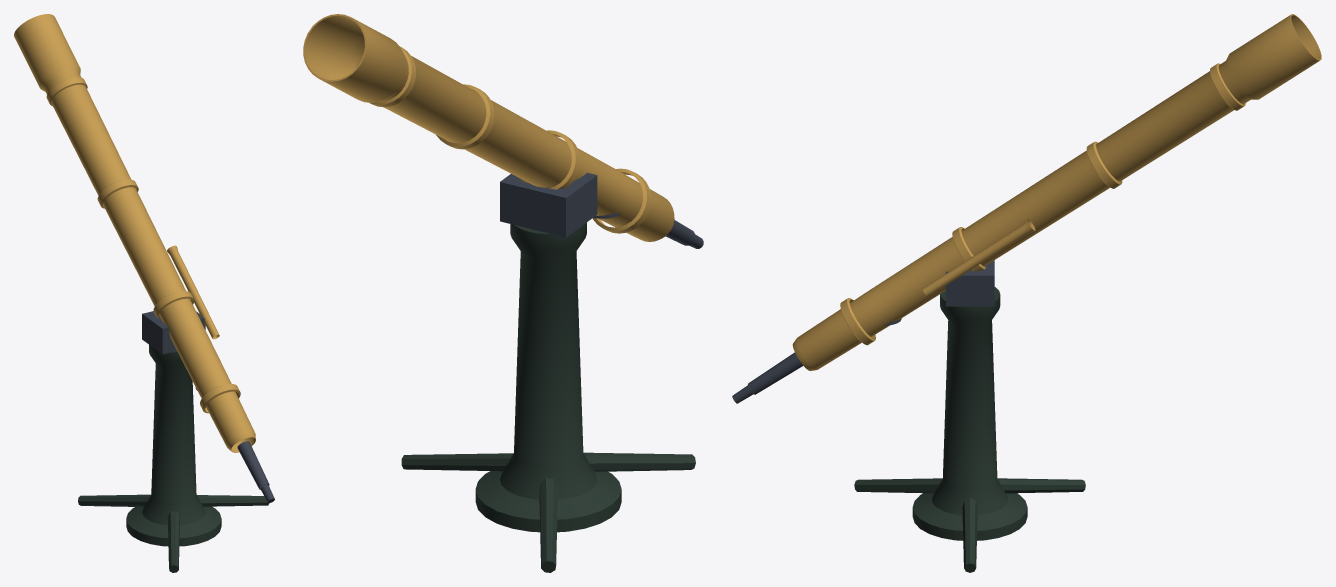
Rendered from telescope.glb.
The picture shows the model from 3 angles, left to right: view 1: azimuth 30°, elevation 25°; view 2: azimuth 150°, elevation 25°; view 3: azimuth 270°, elevation 25°; orthographic projection. The views are drawn at different scales.
Visible parts, largest first — view 1: telescope; view 2: telescope; view 3: telescope.
Boxes of the visible parts, <box> form: telescope: <box>14,14,274,572</box>; telescope: <box>303,14,703,572</box>; telescope: <box>732,14,1321,572</box>.
Bounding box in the file's own units: 1.47 × 4.05 × 4.31.
